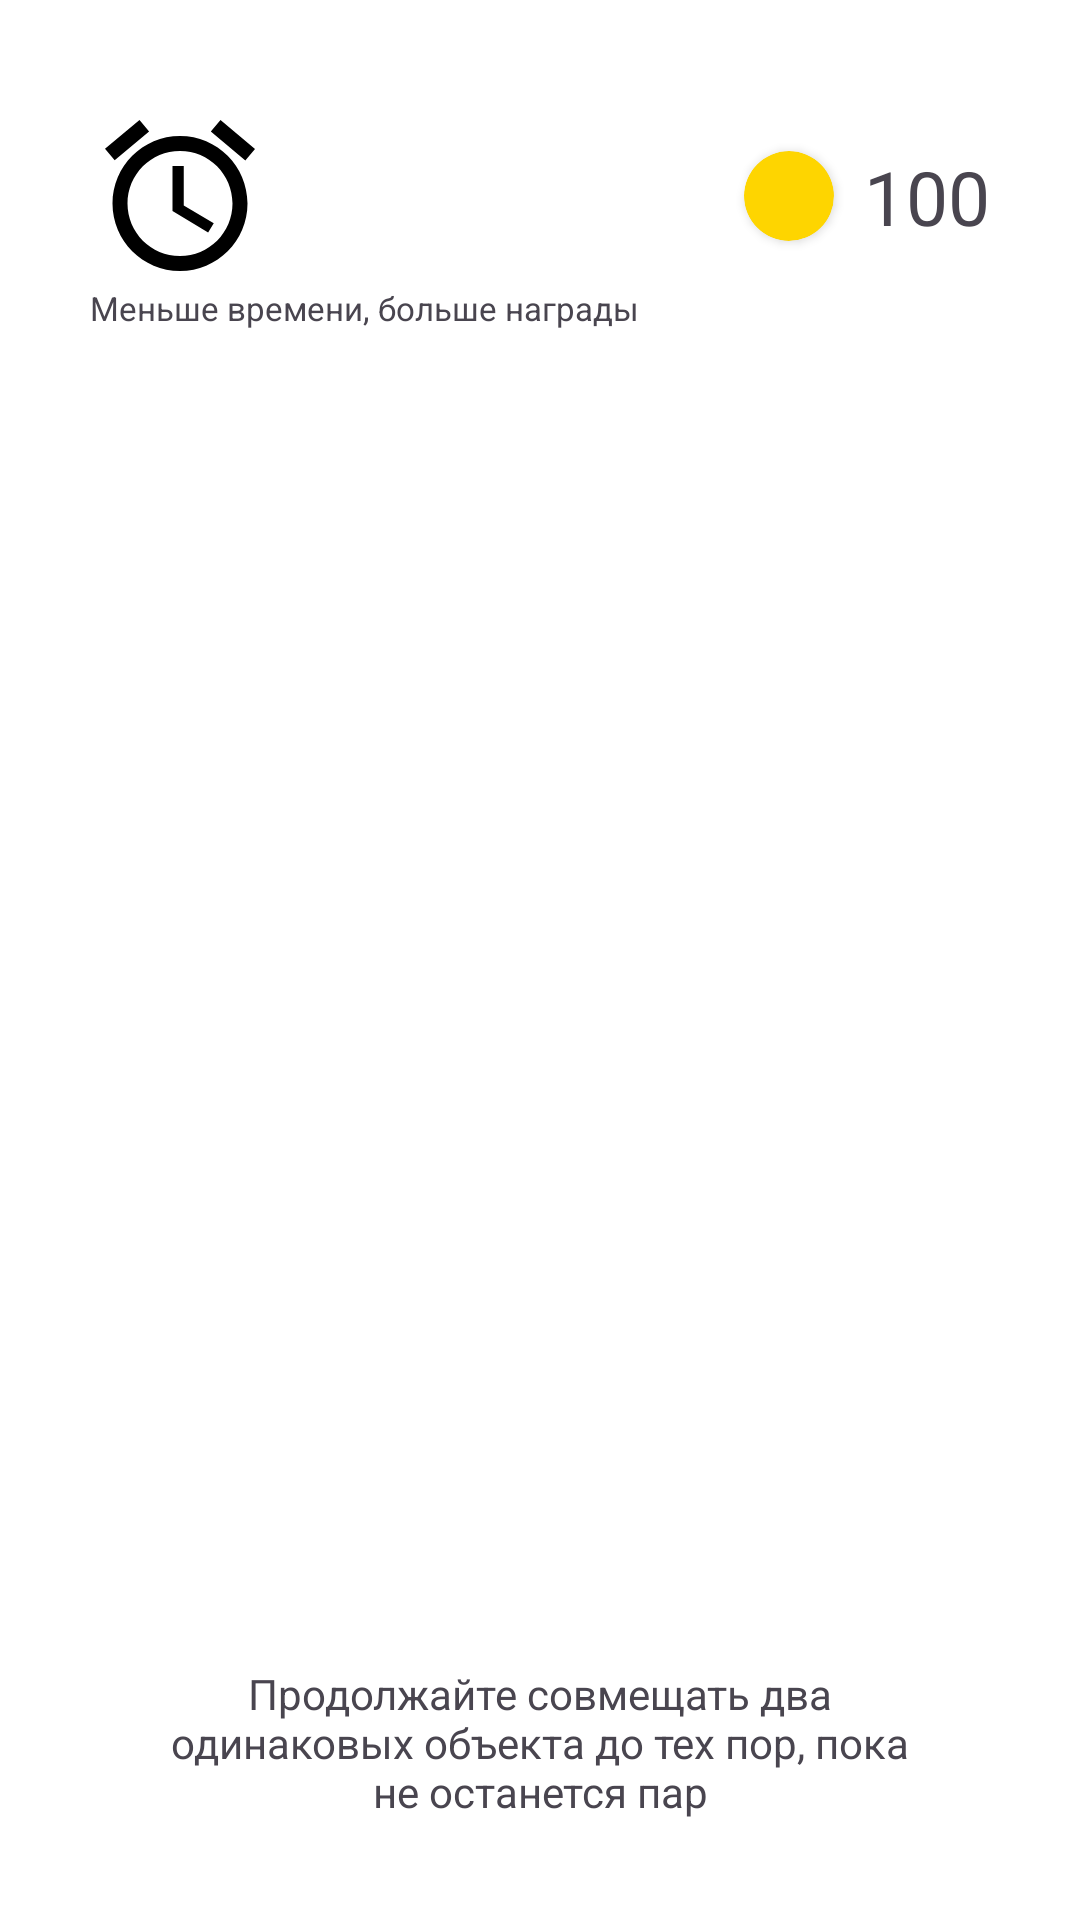

Icon bounding boxes for this 1080×1920 phone screenshot, format (x1, y1, x2, y2):
alarm: (105, 120, 255, 271)
